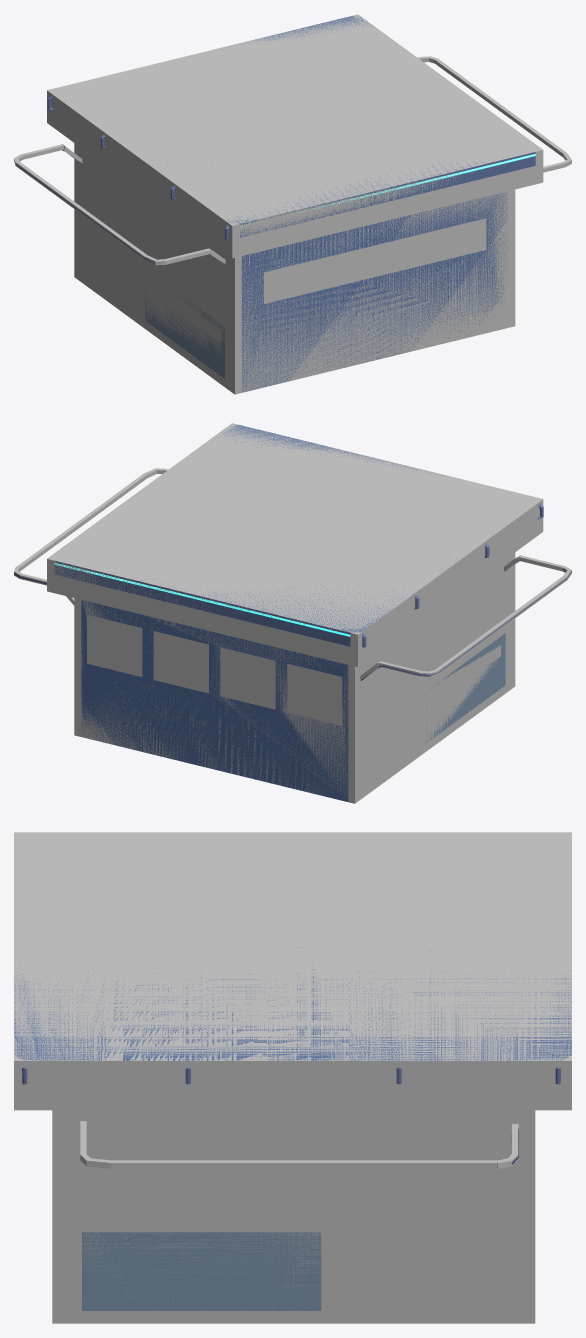
File: SM_Building_03_Base.fbx
The picture shows the model from 3 angles, top to bottom: view 1: azimuth 30°, elevation 25°; view 2: azimuth 150°, elevation 25°; view 3: azimuth 270°, elevation 25°; orthographic projection. The views are drawn at different scales.
Visible parts, largest first — view 1: SM_Building_03_Base_ConvexHulls, SM_Building_03_Base; view 2: SM_Building_03_Base_ConvexHulls, SM_Building_03_Base; view 3: SM_Building_03_Base_ConvexHulls, SM_Building_03_Base.
Part boxes in pixels (x1,y1,x2,y2): SM_Building_03_Base_ConvexHulls: [14, 14, 571, 394]; SM_Building_03_Base: [14, 16, 535, 392]; SM_Building_03_Base_ConvexHulls: [14, 423, 571, 803]; SM_Building_03_Base: [14, 425, 571, 801]; SM_Building_03_Base_ConvexHulls: [14, 832, 571, 1323]; SM_Building_03_Base: [14, 856, 571, 1310].
Size of the model in its own units: 1219 by 924 by 500.
Materials: 2 (1 with a texture image).
